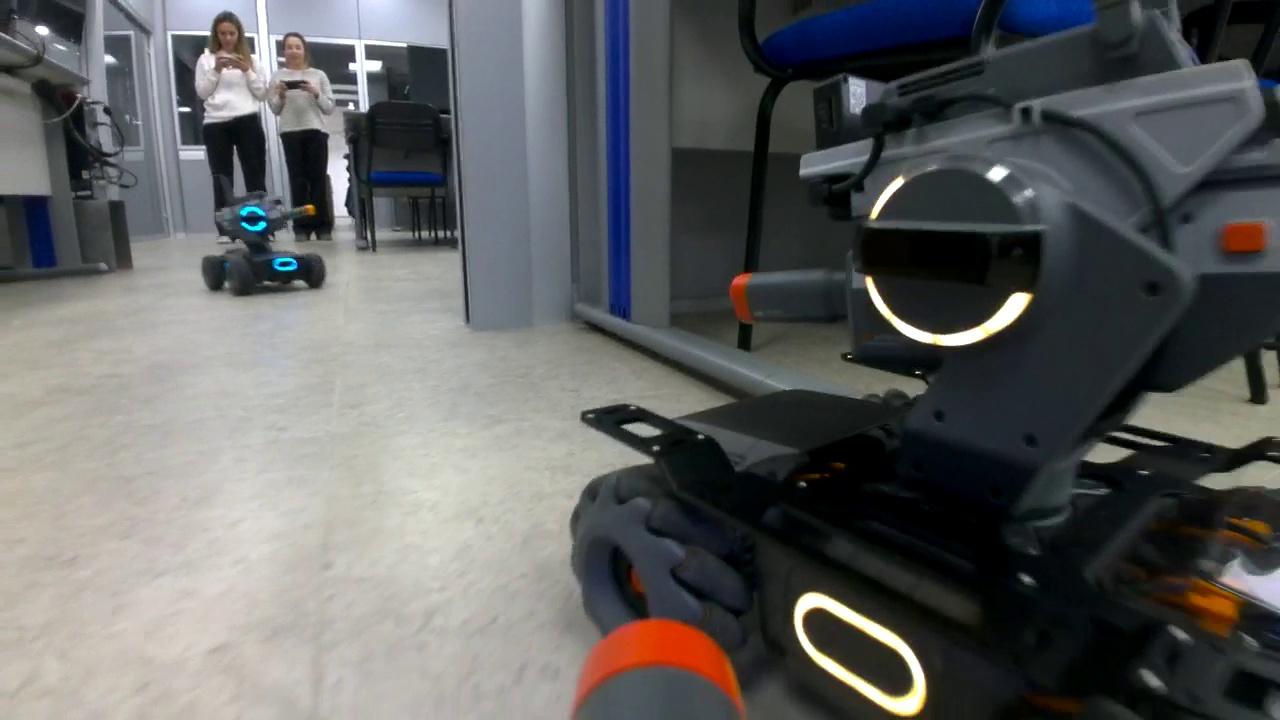robot: (575, 26, 1273, 713), (196, 192, 326, 300)
